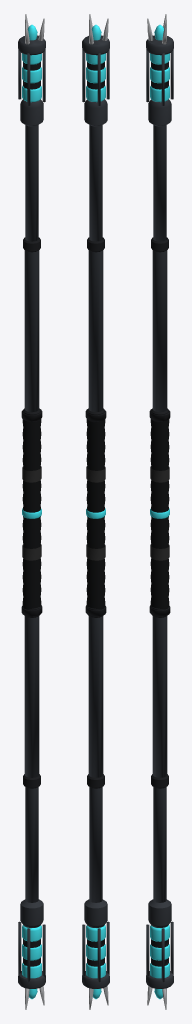
The model's file is gear_neon_stunstaff.glb.
The picture shows the model from 3 angles, left to right: view 1: azimuth 30°, elevation 25°; view 2: azimuth 150°, elevation 25°; view 3: azimuth 330°, elevation 25°; orthographic projection.
Visible parts, largest first — view 1: gear_neon_stunstaff; view 2: gear_neon_stunstaff; view 3: gear_neon_stunstaff.
Part boxes in pixels (left/top/right/bottom): gear_neon_stunstaff: left=18, top=14, right=45, bottom=1009; gear_neon_stunstaff: left=82, top=14, right=109, bottom=1009; gear_neon_stunstaff: left=146, top=14, right=173, bottom=1009.
Bounding box in the file's own units: 0.0524 × 2.02 × 0.0511.
